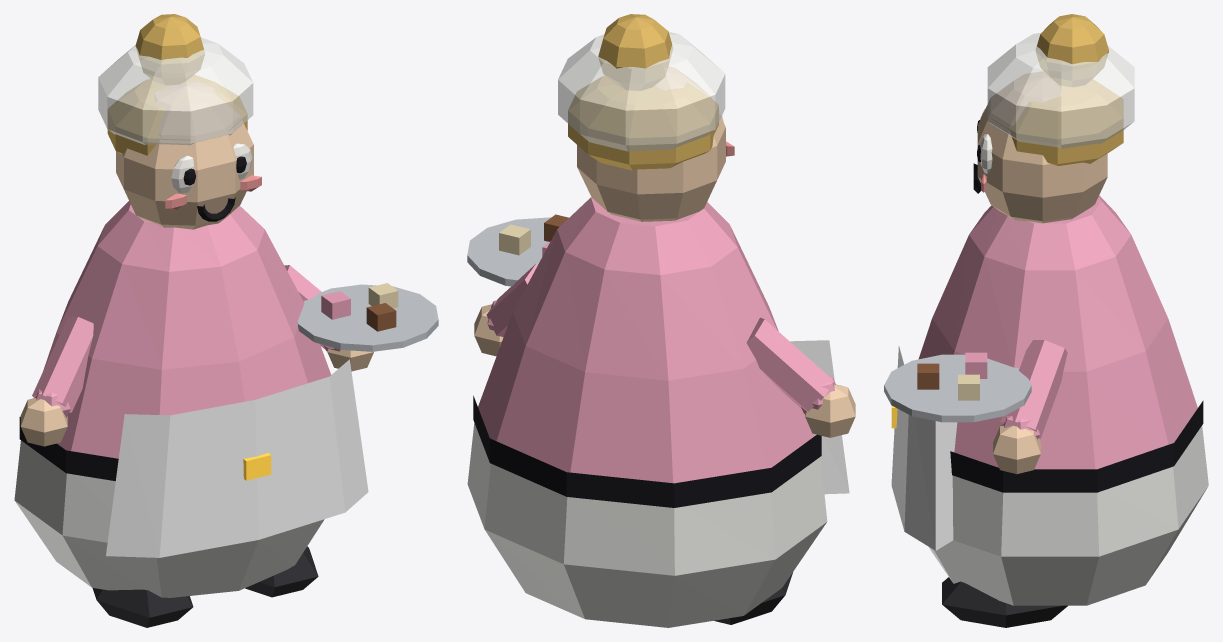
The model's file is npc_pocha.glb.
3 views of the same model, side by side, from view 1: azimuth 30°, elevation 25°; view 2: azimuth 150°, elevation 25°; view 3: azimuth 270°, elevation 25° (orthographic). The views are drawn at different scales.
Visible parts, largest first — view 1: body_pocha_uniform, apron_apron, body_pocha_pants, cap_hairnet, head_skin_crema, head_hair_blond, props_tray_steel, legs_cook_shoes, arms_pocha_uniform, arms_skin_crema, props, body_black (+3 smaller); view 2: body_pocha_uniform, body_pocha_pants, head_hair_blond, cap_hairnet, body_black, head_skin_crema, arms_pocha_uniform, props_tray_steel, arms_skin_crema, apron_apron, props, legs_cook_shoes; view 3: body_pocha_uniform, body_pocha_pants, cap_hairnet, head_hair_blond, head_skin_crema, apron_apron, props_tray_steel, body_black, arms_pocha_uniform, legs_cook_shoes, arms_skin_crema, props.
Boxes of the visible parts, box(x1,y1,x2,y2) form: body_pocha_uniform: box(43, 201, 331, 458); apron_apron: box(106, 359, 368, 557); body_pocha_pants: box(14, 440, 324, 597); cap_hairnet: box(98, 37, 253, 145); head_skin_crema: box(116, 82, 253, 229); head_hair_blond: box(107, 14, 247, 155); props_tray_steel: box(297, 284, 438, 351); legs_cook_shoes: box(92, 546, 318, 627); arms_pocha_uniform: box(32, 265, 340, 417); arms_skin_crema: box(20, 349, 373, 446); props: box(321, 283, 398, 331); body_black: box(19, 417, 118, 481); body_pocha_uniform: box(478, 197, 814, 483); body_pocha_pants: box(467, 423, 827, 627); head_hair_blond: box(568, 14, 718, 170); cap_hairnet: box(558, 32, 725, 151); body_black: box(473, 395, 821, 507); head_skin_crema: box(577, 67, 725, 221); arms_pocha_uniform: box(486, 263, 835, 413); props_tray_steel: box(467, 217, 550, 286); arms_skin_crema: box(474, 304, 855, 437); apron_apron: box(790, 340, 849, 494); props: box(499, 214, 568, 256); legs_cook_shoes: box(714, 572, 792, 624); body_pocha_uniform: box(918, 195, 1197, 469); body_pocha_pants: box(929, 425, 1208, 605); cap_hairnet: box(987, 32, 1134, 148); head_hair_blond: box(992, 14, 1123, 165); head_skin_crema: box(977, 71, 1107, 223); apron_apron: box(891, 346, 957, 550); props_tray_steel: box(884, 354, 1031, 422); body_black: box(950, 400, 1203, 492); arms_pocha_uniform: box(1000, 340, 1067, 439); legs_cook_shoes: box(942, 577, 1067, 627); arms_skin_crema: box(993, 425, 1040, 473); props: box(917, 352, 987, 400).
Bounding box in the file's own units: 1.21 × 1.71 × 0.88.
